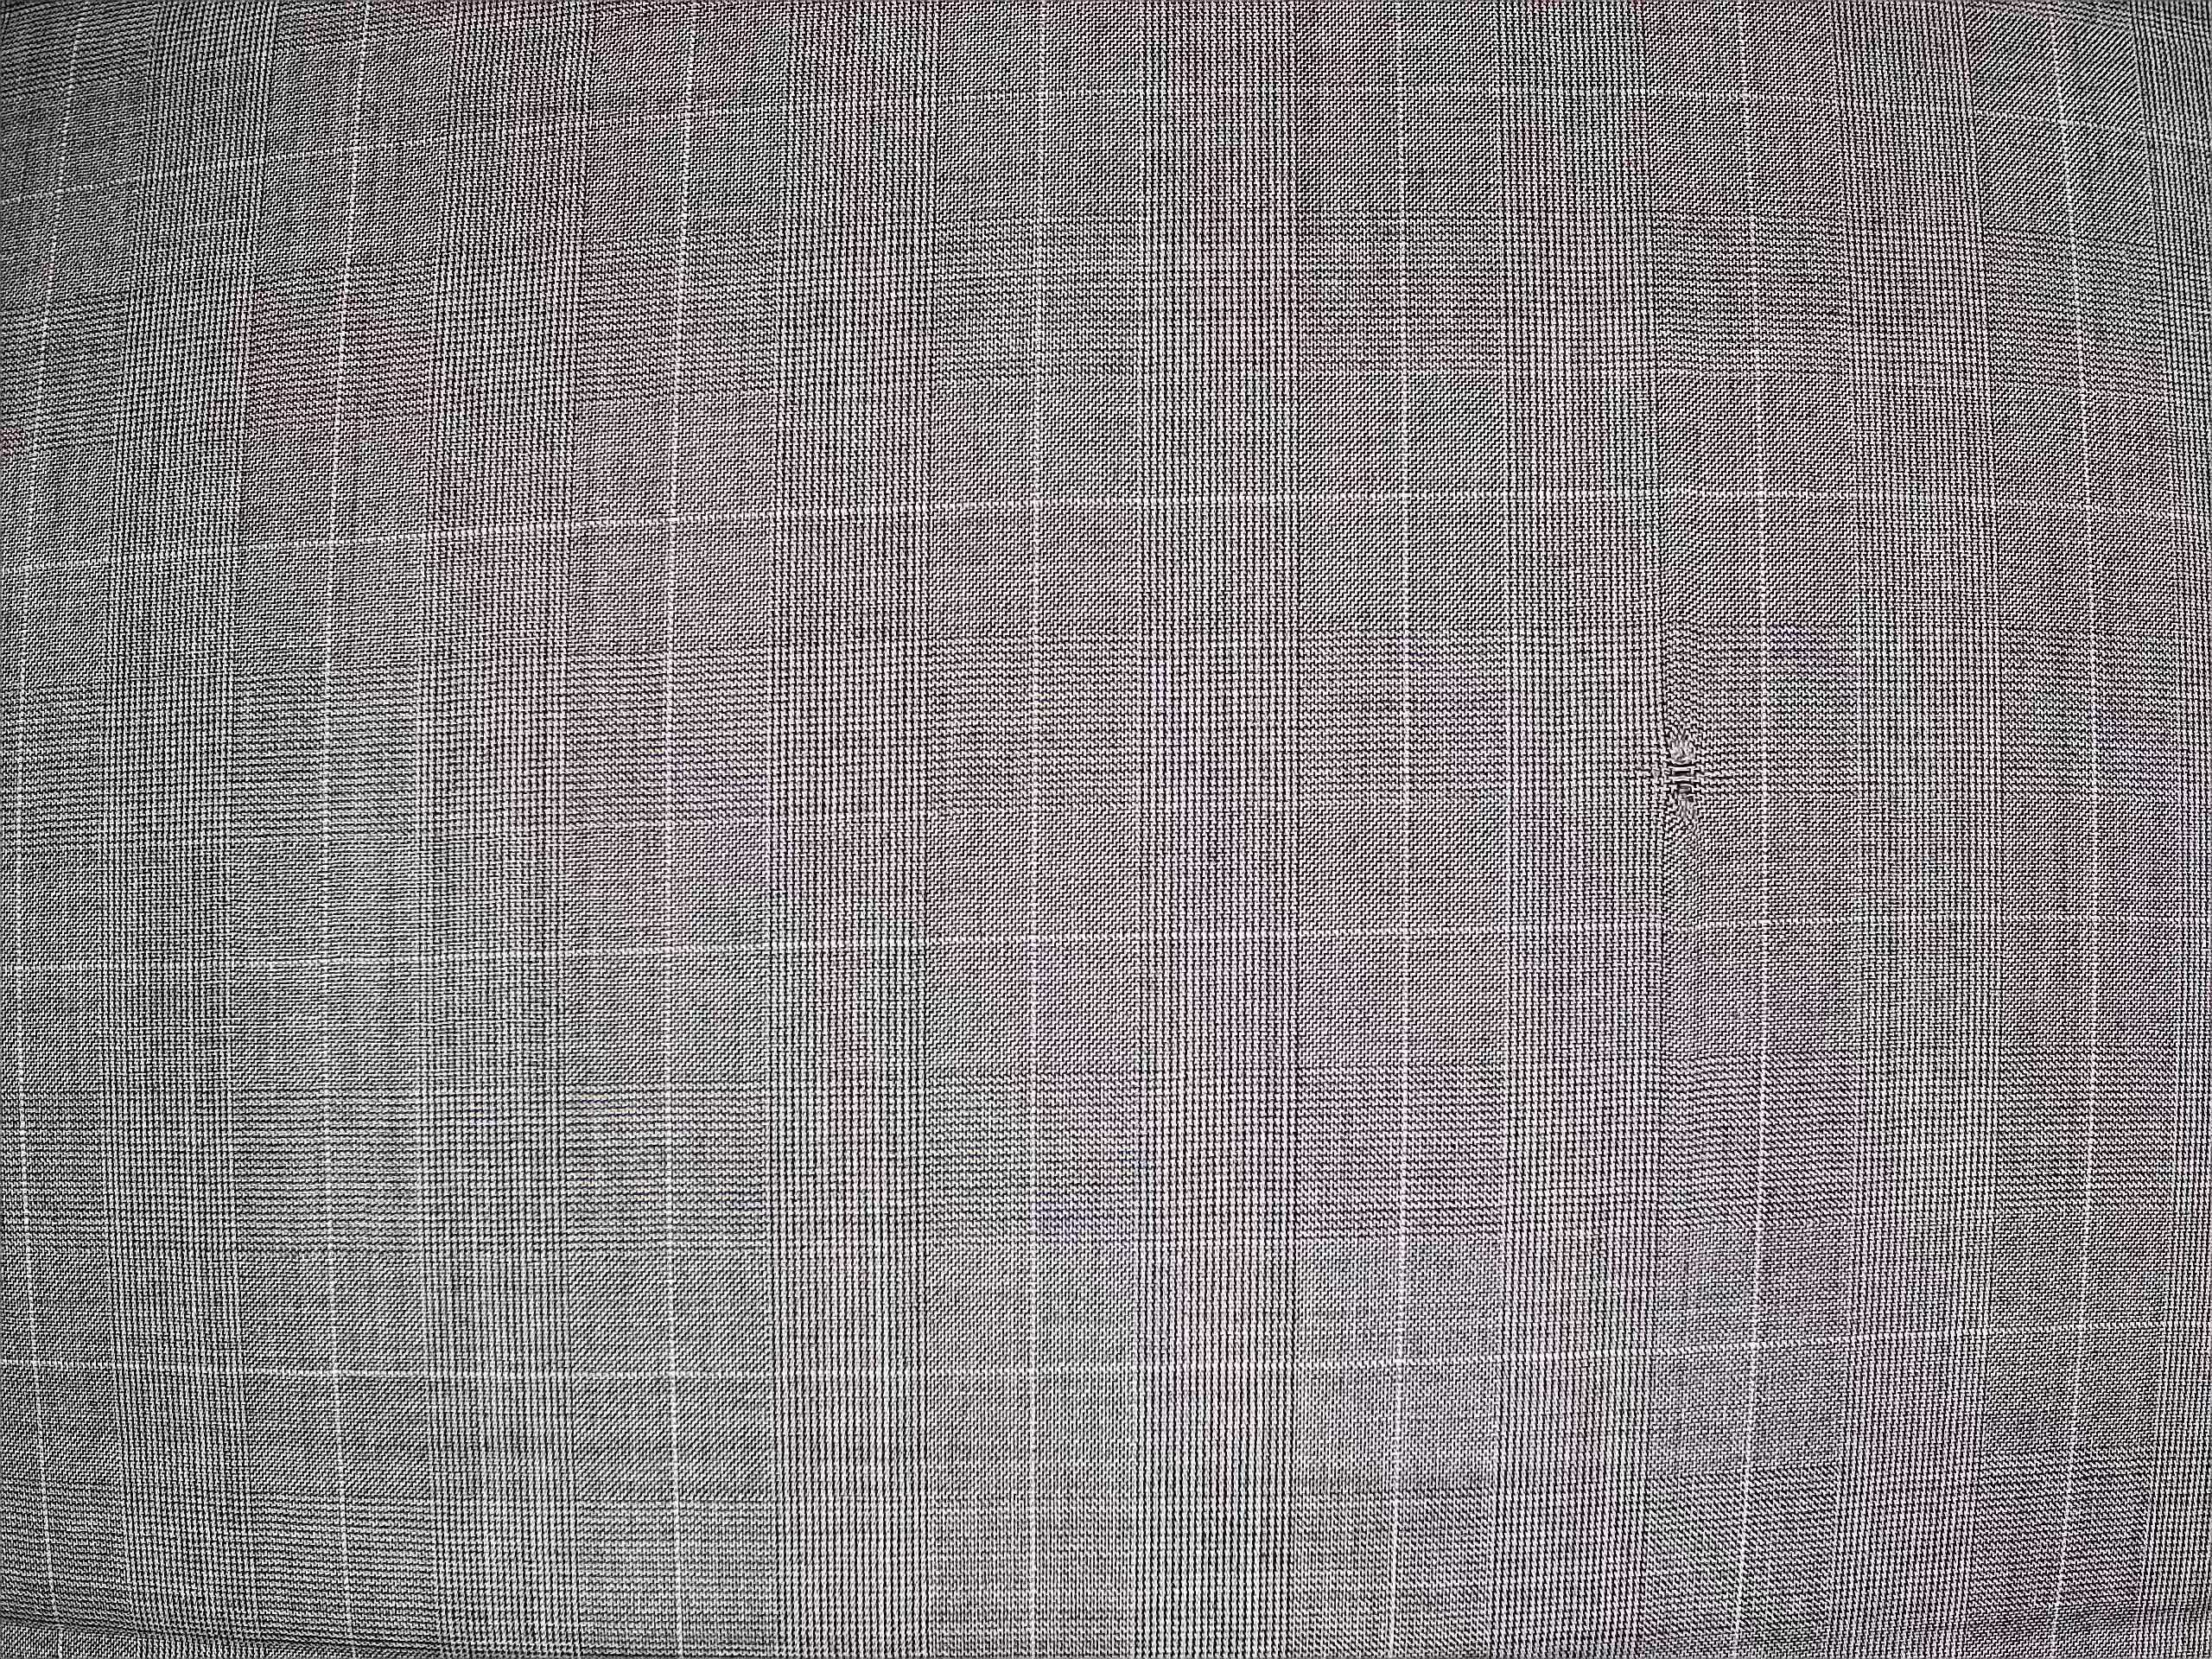rubbing-hole: (1641, 702, 1728, 835)
